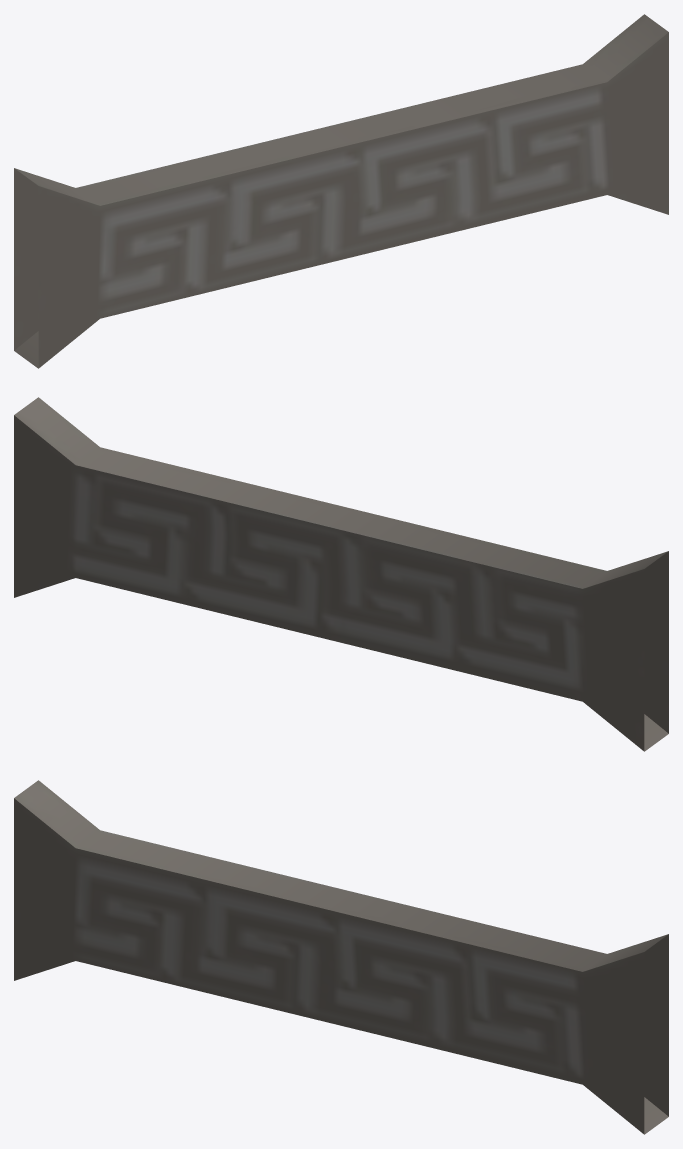
Rendered from fence2.fbx.
3 views of the same model, one above another, from view 1: azimuth 30°, elevation 25°; view 2: azimuth 150°, elevation 25°; view 3: azimuth 330°, elevation 25° (orthographic).
Visible parts, largest first — view 1: Object147; view 2: Object147; view 3: Object147.
Boxes of the visible parts, left/top/right/bottom form: Object147: left=14, top=14, right=668, bottom=368; Object147: left=14, top=397, right=668, bottom=751; Object147: left=14, top=780, right=668, bottom=1134.
Bounding box in the file's own units: 153 × 42.29 × 10.29.
